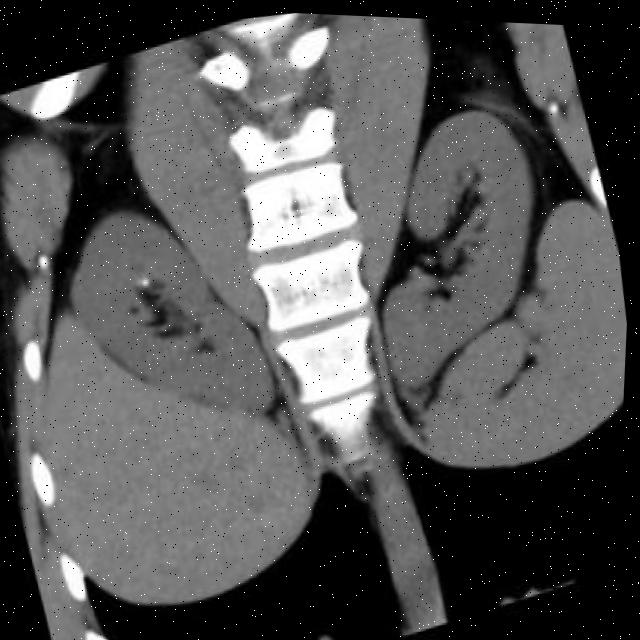Tas_Var: (141, 276, 154, 289), (136, 278, 144, 287)
